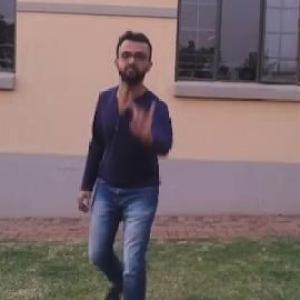takeoff-hand: (122, 81, 161, 142)
